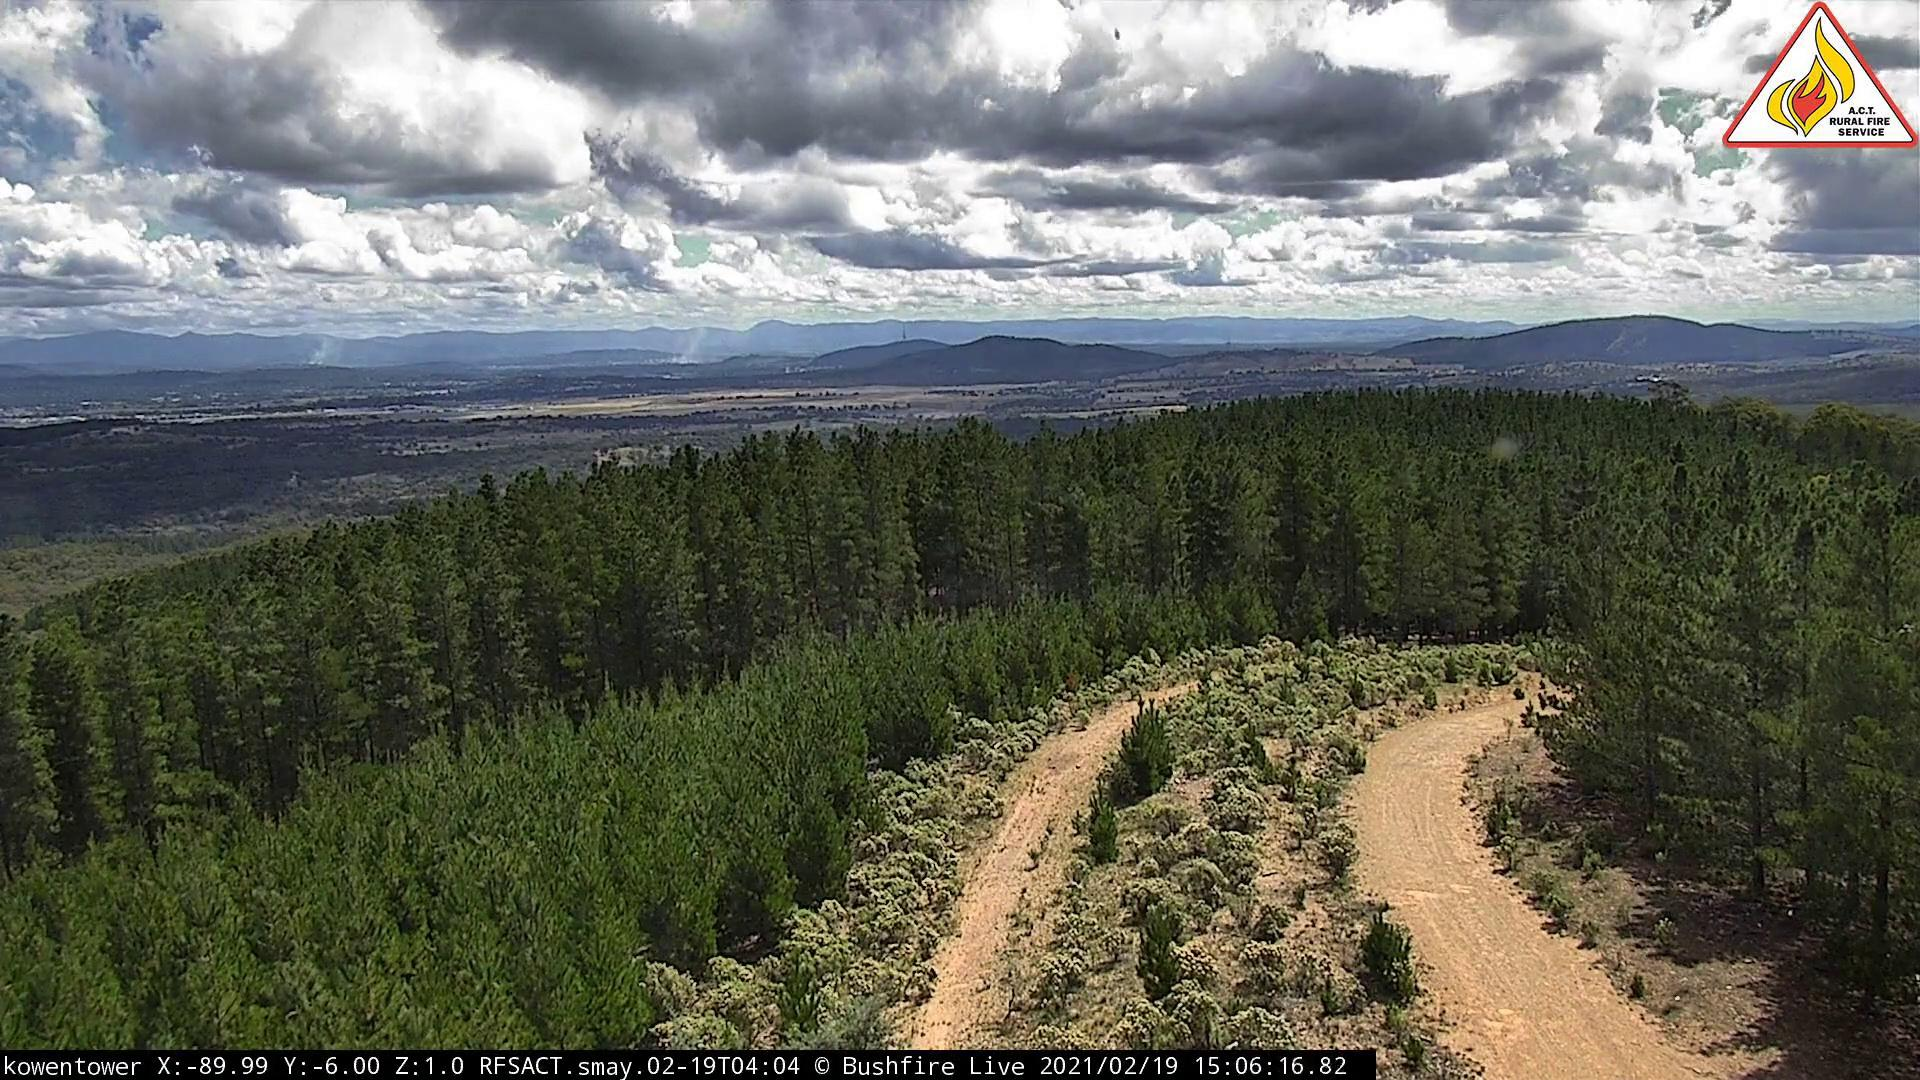instance_salient_object: (301, 336, 363, 371), (665, 328, 713, 371)
